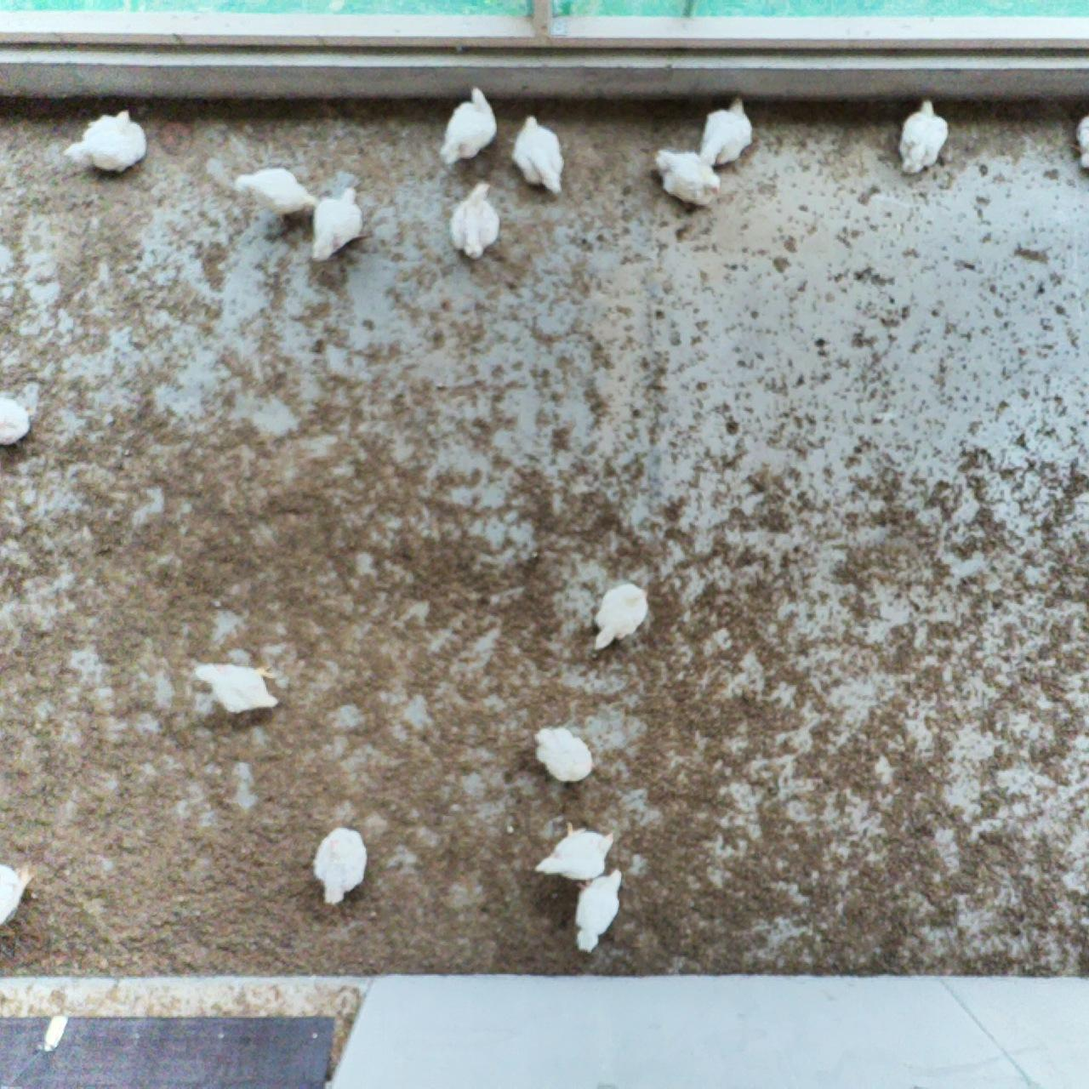chicken: (63, 105, 151, 174), (189, 657, 283, 719), (570, 867, 627, 959), (231, 162, 319, 221), (309, 823, 372, 905), (507, 110, 566, 197), (437, 85, 499, 167), (532, 820, 616, 880), (448, 177, 504, 263), (308, 184, 369, 261), (649, 143, 721, 208), (894, 96, 951, 178), (591, 579, 650, 654), (530, 720, 597, 786), (698, 93, 754, 166), (0, 854, 36, 935), (0, 384, 31, 452), (1072, 109, 1089, 172)
